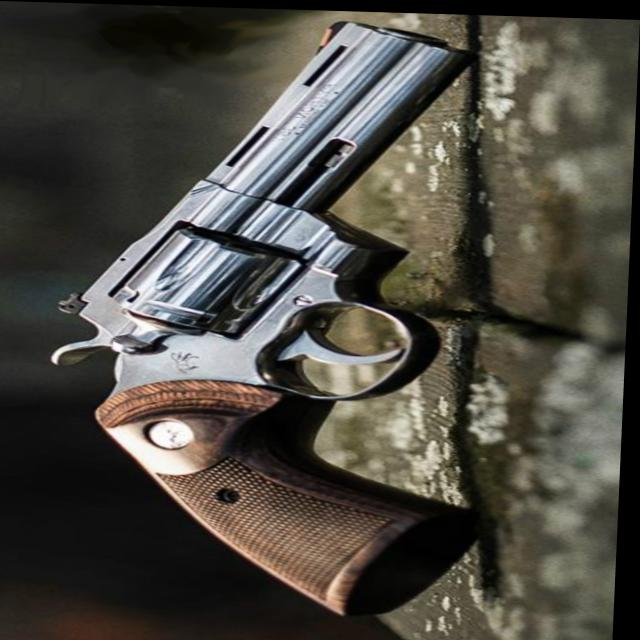handgun: (39, 9, 498, 616)
